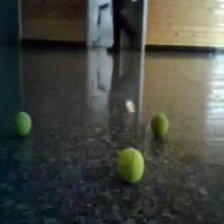tennis: (115, 148, 146, 182), (150, 112, 169, 139), (13, 111, 33, 136)
